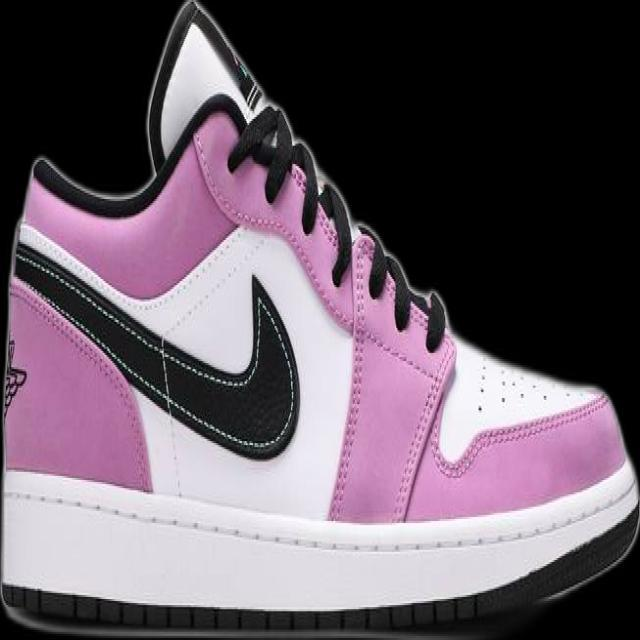J1_InsoleChar: (0, 0, 638, 636)
J1_ShoeLogo: (1, 334, 27, 419)
J1_StitchPattern: (10, 220, 610, 473), (1, 467, 638, 630), (12, 229, 300, 458), (227, 102, 449, 353), (3, 480, 637, 557), (325, 220, 454, 520), (1, 583, 487, 632), (227, 103, 356, 287), (326, 229, 372, 521), (353, 220, 449, 352), (469, 352, 599, 418), (226, 103, 296, 202), (315, 180, 354, 285)
